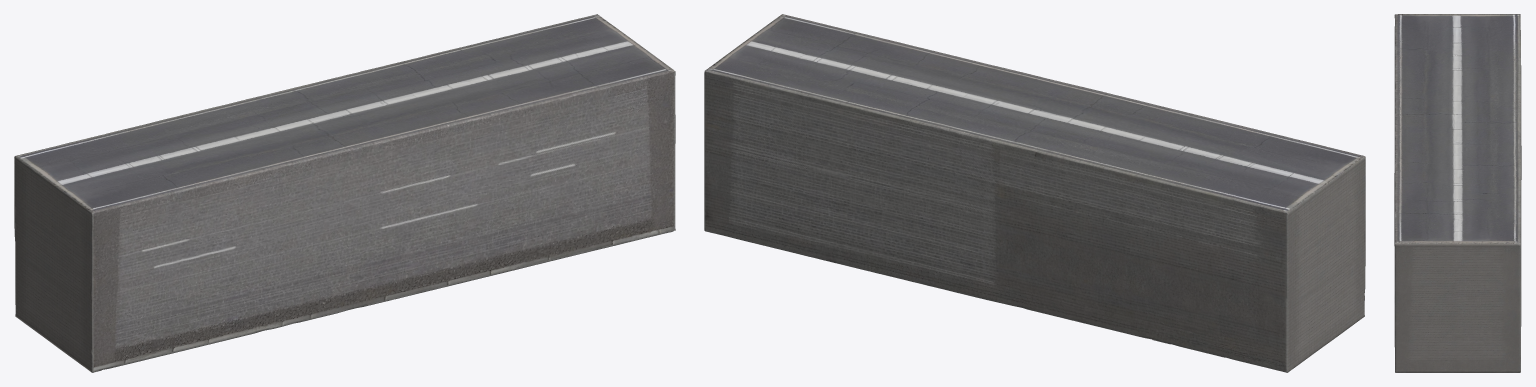
File: kaspacrossroad.glb
3 renders of one model, left to right at view 1: azimuth 30°, elevation 25°; view 2: azimuth 150°, elevation 25°; view 3: azimuth 270°, elevation 25°, orthographic. The views are drawn at different scales.
Bounding box in the file's own units: 2 × 0.5305 × 0.4679.
Materials: 1 (1 with a texture image).
